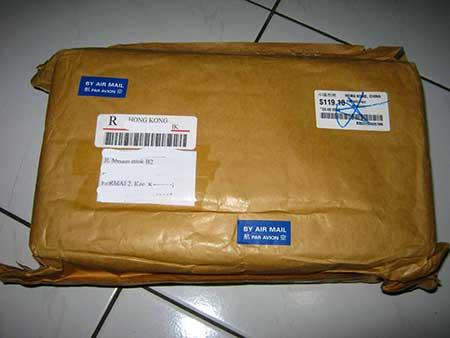undamaged: (0, 30, 448, 302)
